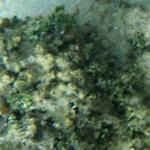dead: (3, 3, 146, 147)
